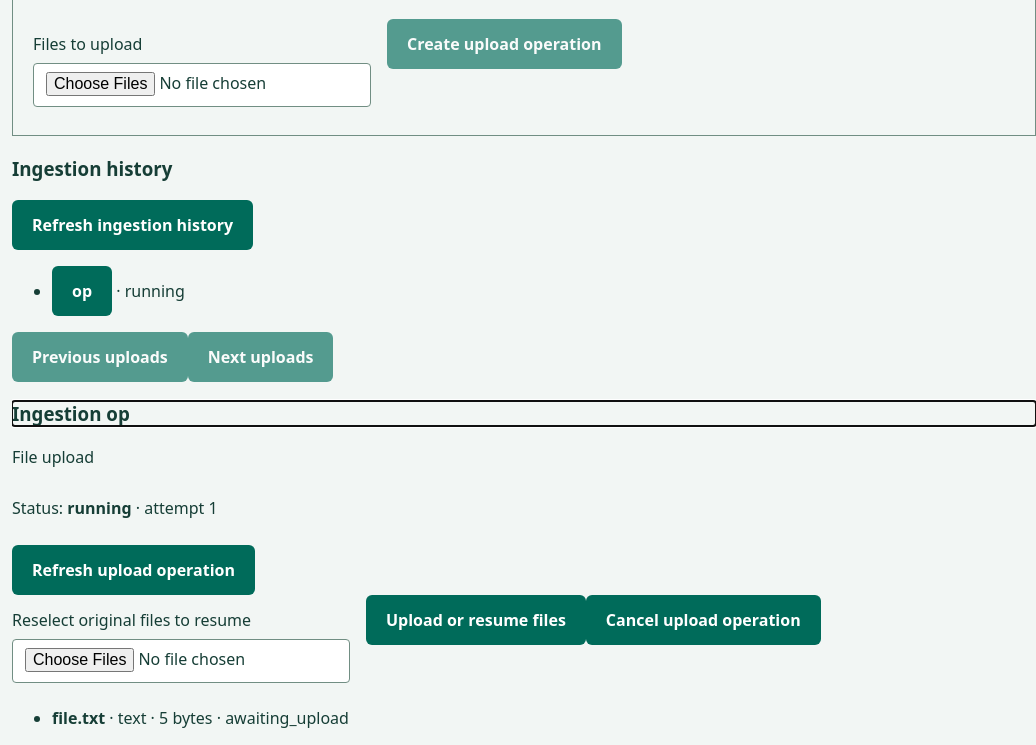
it: replaces transient transfer text with the authoritative accepted outcome
(page scrolled)
Click the button "Upload or resume files" at (476, 620), box [366,595,586,645]
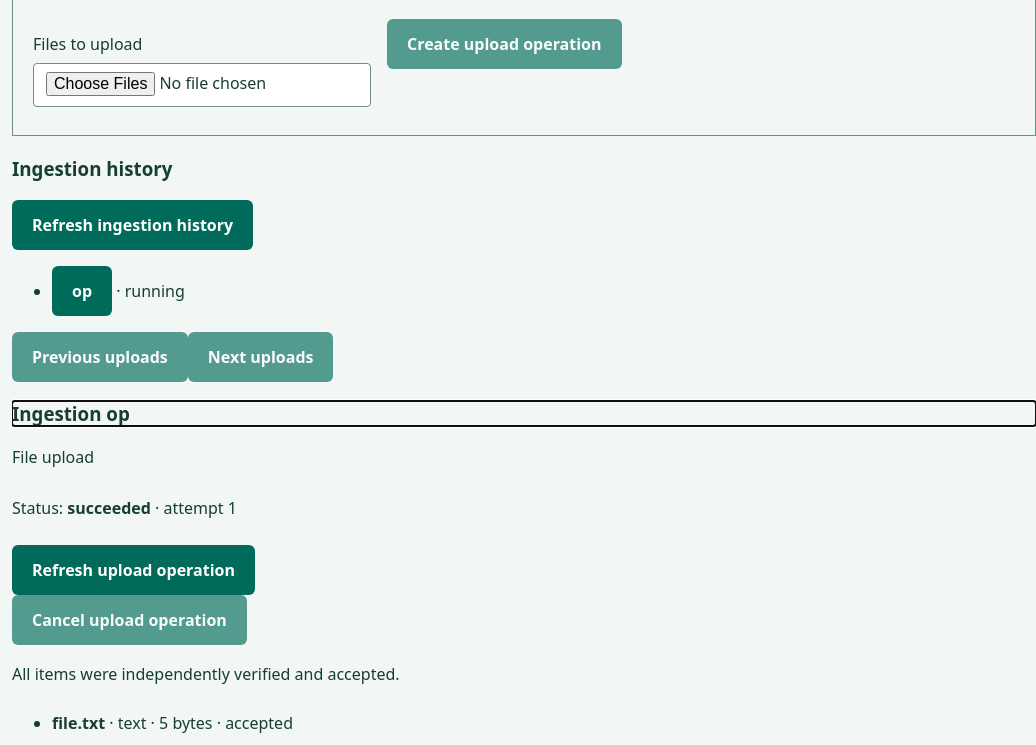
Result: the text "All items were independently verified and accepted." is shown at [12,661,451,688]
